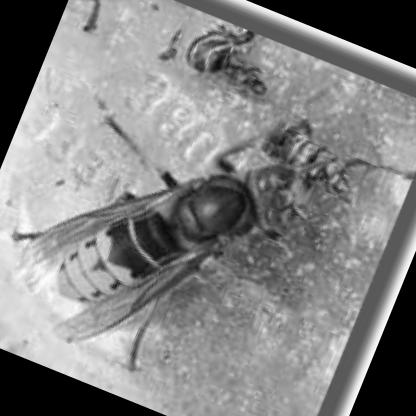european: (0, 71, 337, 405)
